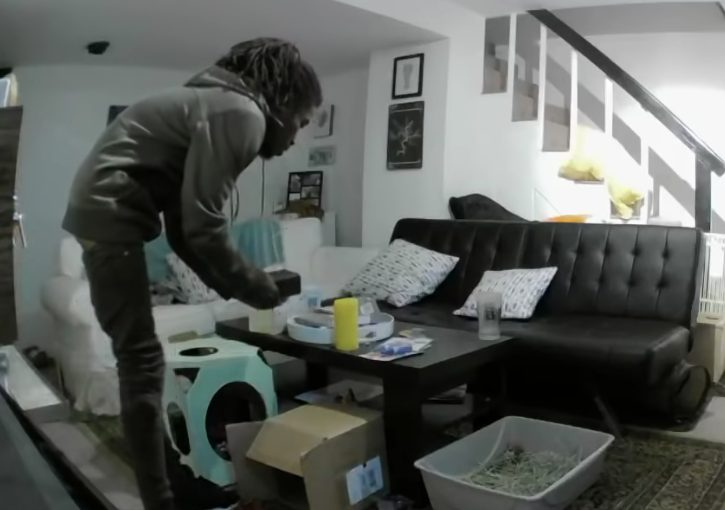Person: (55, 29, 329, 510)
